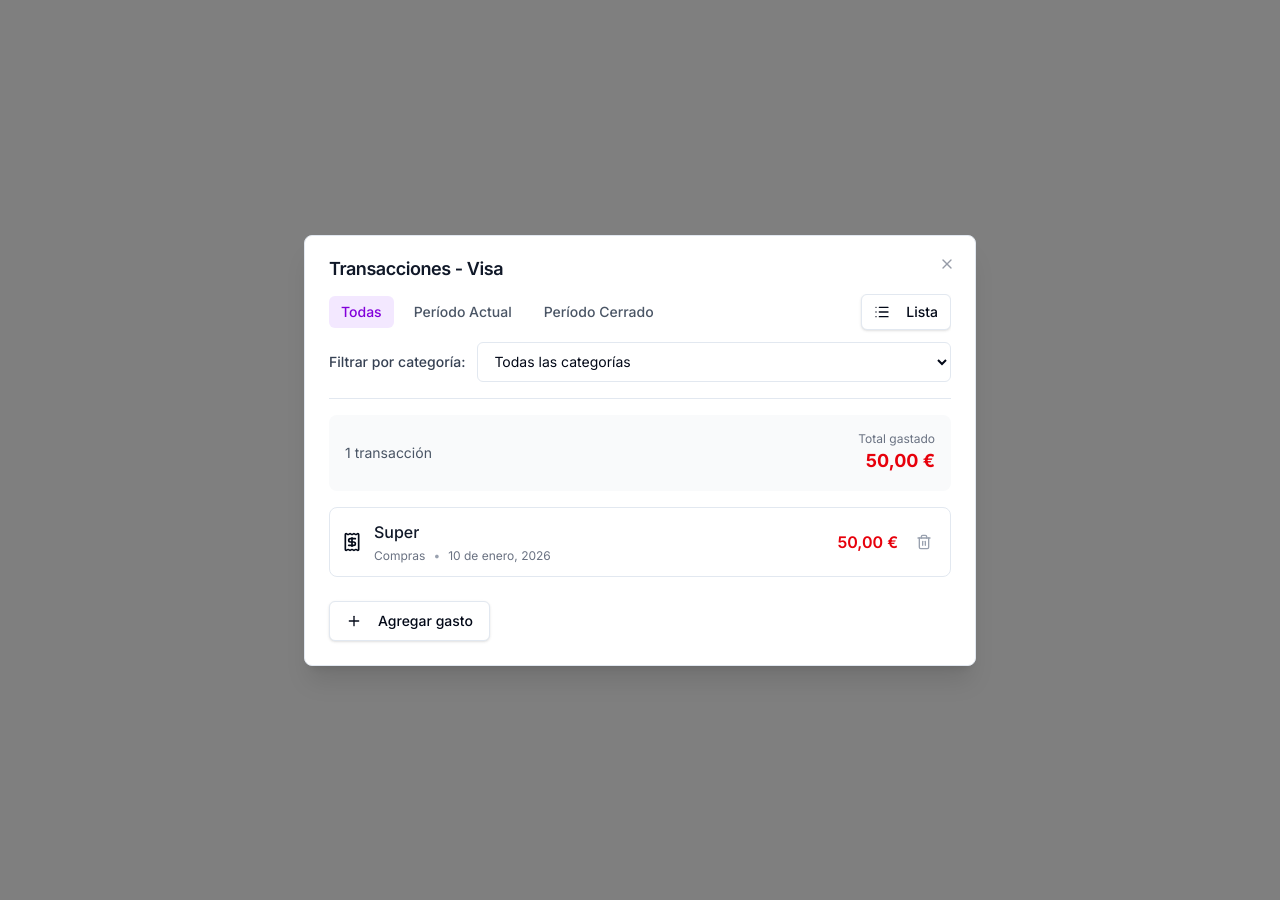
CreditCardTransactionsModal › botón eliminar abre confirmación, y al confirmar borra y recarga la lista
The width and height of the screenshot is (1280, 900).
Expected: the text "Super" is shown, [374,520,419,544]
Click the button named "Eliminar transacción": (924, 542) [910,528,938,556]
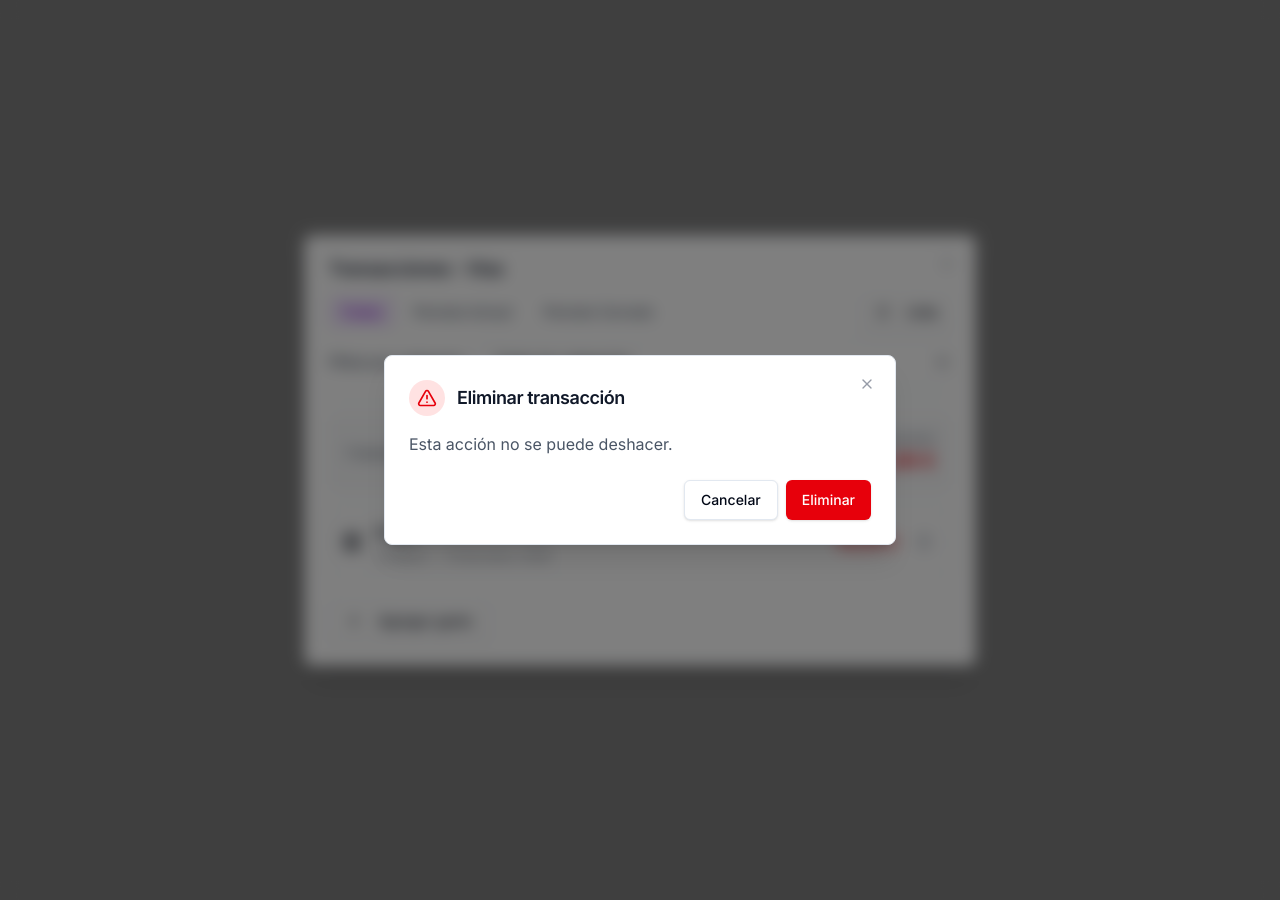
Expected: the text "Esta acción no se puede deshacer." is shown, [409,434,673,454]
Click the button "Eliminar": (828, 500) [786,480,871,520]
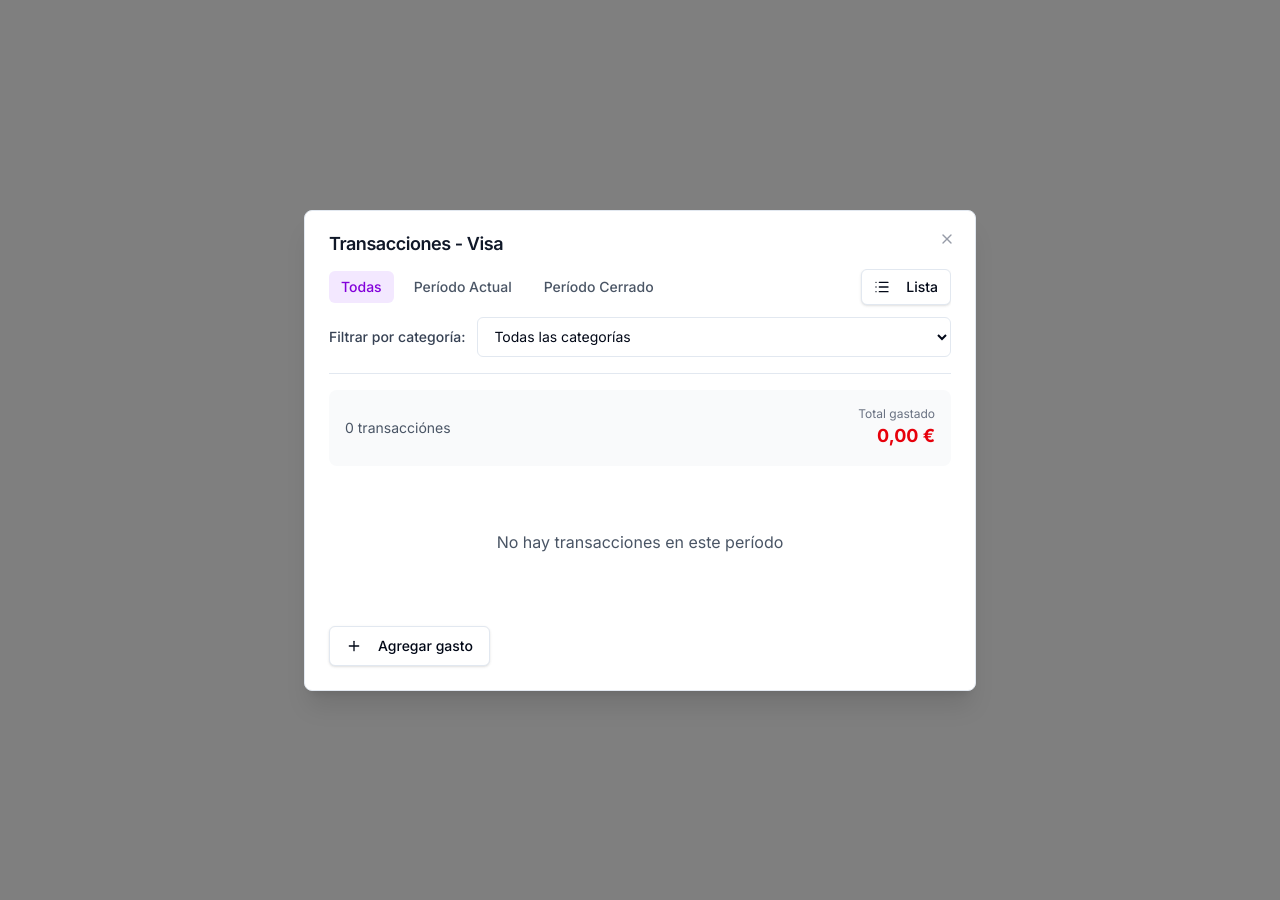
Expected: the text "No hay transacciones en este período" is shown, [497,532,783,552]
